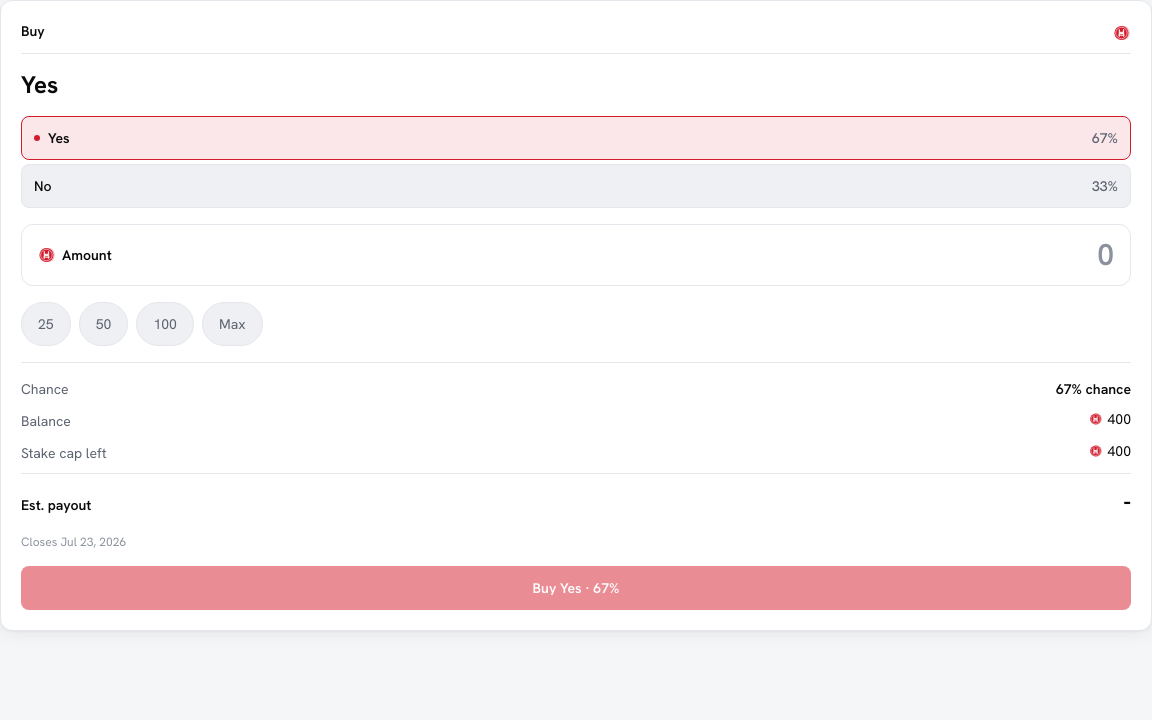
Test: OrderPanel › shows the odds as an implied chance for the selected outcome
The width and height of the screenshot is (1152, 720).
Expected: the text "67% chance" is shown, [1056,379,1131,399]
Click the button "No 33%" at (43, 186), box [21,164,1131,208]
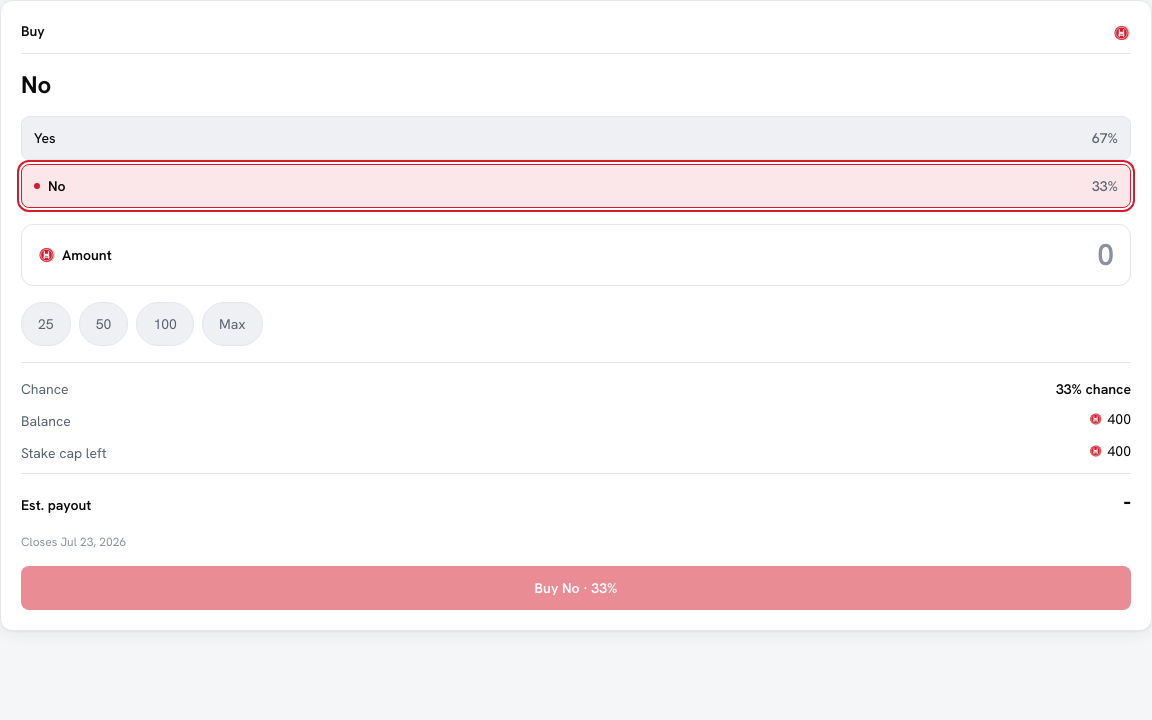
Now the text "33% chance" is shown, box [1056,379,1131,399]
